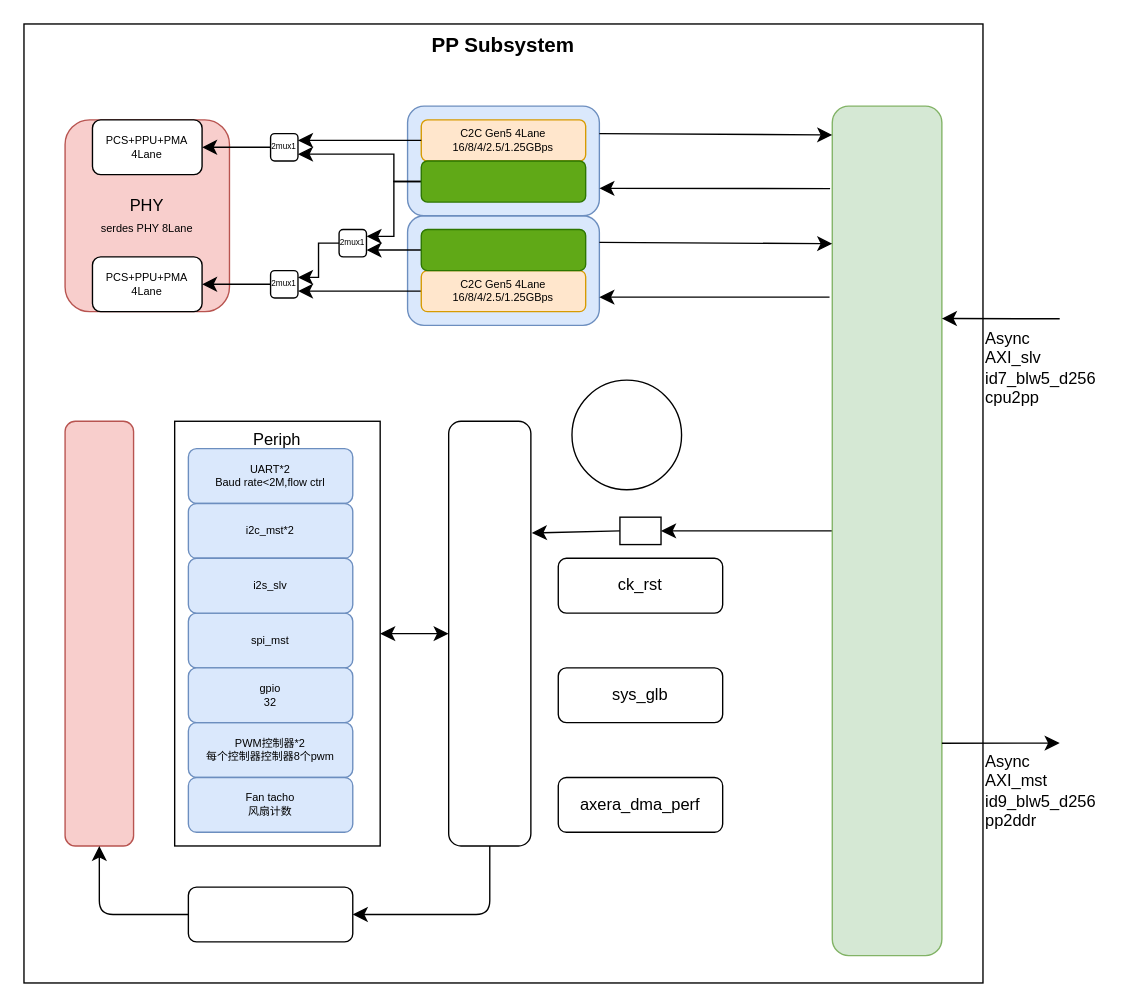
Image size: 1121x1007. Some labels were removed from this diagram. The centre of each missing label's shape, as x and y in pixels:
APB_DEC: the point at 489,633
PCIe Gen5 4Lane 16/8/4/2.5/1.25GBps: the point at 503,249
PCIe Gen5 8Lane 8lane:32/16/8/4/2.5GBps 4lane:16/8/4/2.5/1.25GBps: the point at 503,181
PINMUX group*2 IOPAD+ pin_reg+ VDET: the point at 99,633
pinmux_glb: the point at 270,914
PLL: the point at 626,434
pp_fab: the point at 886,530
X2P: the point at 640,530
